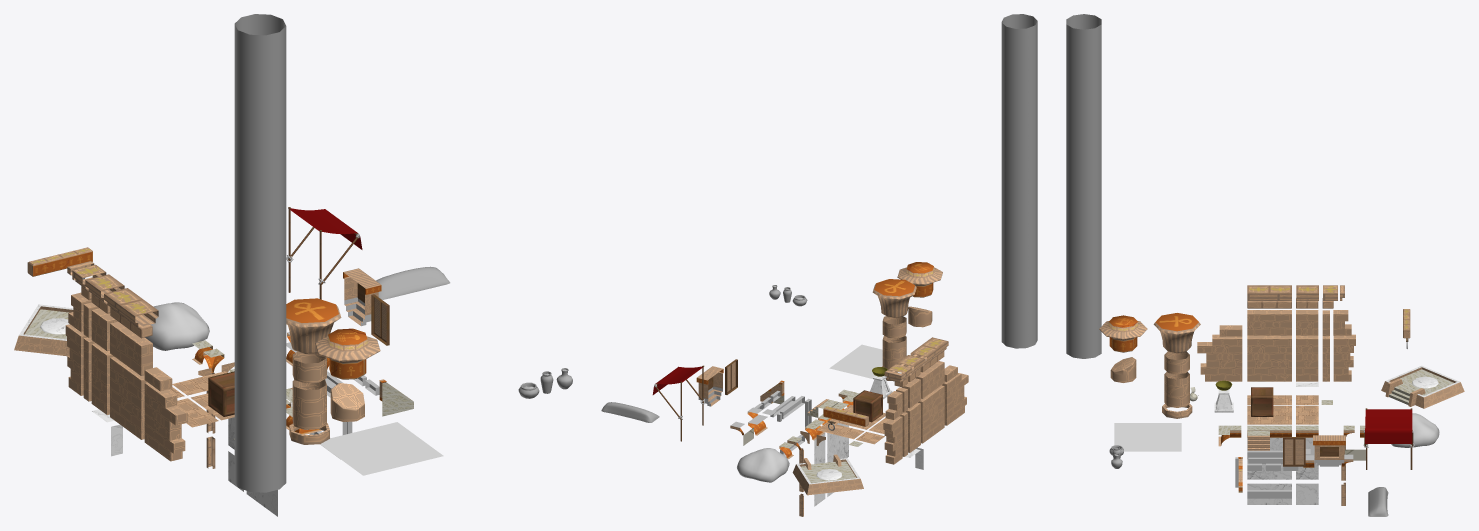
Rendered from ModularAssets.fbx.
The picture shows the model from 3 angles, left to right: view 1: azimuth 30°, elevation 25°; view 2: azimuth 150°, elevation 25°; view 3: azimuth 270°, elevation 25°; orthographic projection. The views are drawn at different scales.
Parts seen in each view (by area): view 1: FallingSand, MovableRoof, BrickWallBrokenx5, Pillar_Top2, BrickWall4x4, Pillar_Top, Sand1, Shrine, Canopy2, Pillar_Midx2, BrickWall4x2, Window2 (+10 smaller); view 2: FallingSand, Shrine, Sand1, Pillar_Top, MovableRoof, BrickWall4x4, Pillar_Top2, BrickWallBrokenx5, Canopy2, Window2, BrickWallBrokenx2, Box (+8 smaller); view 3: FallingSand, Shrine, BrickWall4x4, MovableRoof, Canopy2, BrickWallBrokenx5, Pillar_Top, Pillar_Top2, BrickWall4x2, BrickWall2x4, Window2, BrickWallBrokenx2 (+15 smaller).
Boxes of the visible parts, x1,y1,x2,y2 form: FallingSand: (234,14,286,492); MovableRoof: (320,422,443,475); BrickWallBrokenx5: (144,382,187,461); Pillar_Top2: (315,328,380,379); BrickWall4x4: (110,356,147,439); Pillar_Top: (286,298,341,353); Sand1: (145,302,209,350); Shrine: (14,304,73,356); Canopy2: (286,207,362,299); Pillar_Midx2: (292,379,326,429); BrickWall4x2: (110,321,152,375); Window2: (343,268,381,326); FallingSand: (1001,14,1037,348); Shrine: (792,454,863,495); Sand1: (737,448,789,482); Pillar_Top: (872,279,916,317); MovableRoof: (829,344,898,380); BrickWall4x4: (918,385,944,443); Pillar_Top2: (897,262,942,297); BrickWallBrokenx5: (942,373,968,425); Canopy2: (652,365,704,441); Window2: (696,366,723,406); BrickWallBrokenx2: (883,416,902,464); Box: (853,390,882,422); FallingSand: (1066,14,1101,358); Shrine: (1381,365,1464,408); BrickWall4x4: (1247,335,1291,381); MovableRoof: (1114,423,1181,451); Canopy2: (1363,408,1414,469); BrickWallBrokenx5: (1197,334,1242,381); Pillar_Top: (1153,313,1200,353); Pillar_Top2: (1099,315,1147,352); BrickWall4x2: (1247,310,1291,335); BrickWall2x4: (1296,335,1318,381); Window2: (1313,435,1345,466); BrickWallBrokenx2: (1333,334,1355,381).
Size of the model in its own units: 18.31 by 25.83 by 21.33.
